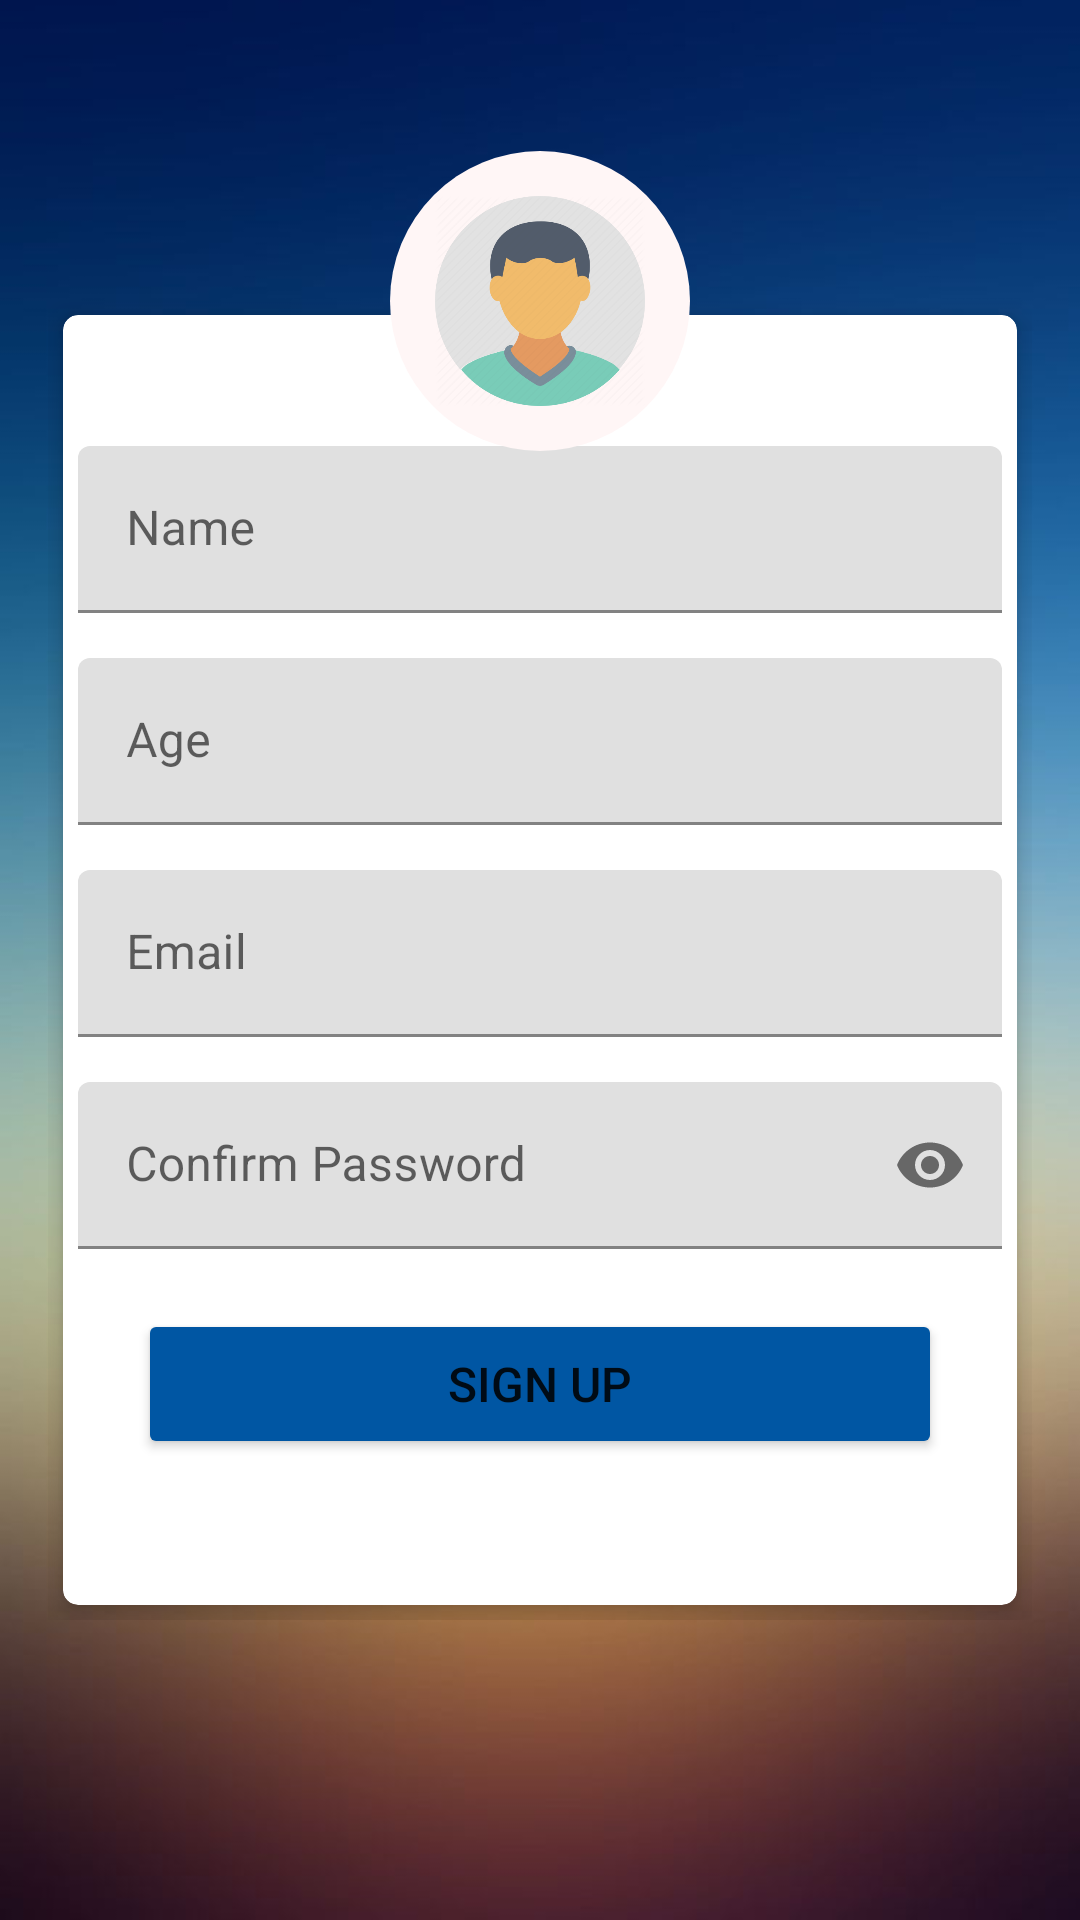

Point at icon controls on the screen. Image size 1080*1920, points as (x=x, y=y).
accountlog: (x=540, y=301)
